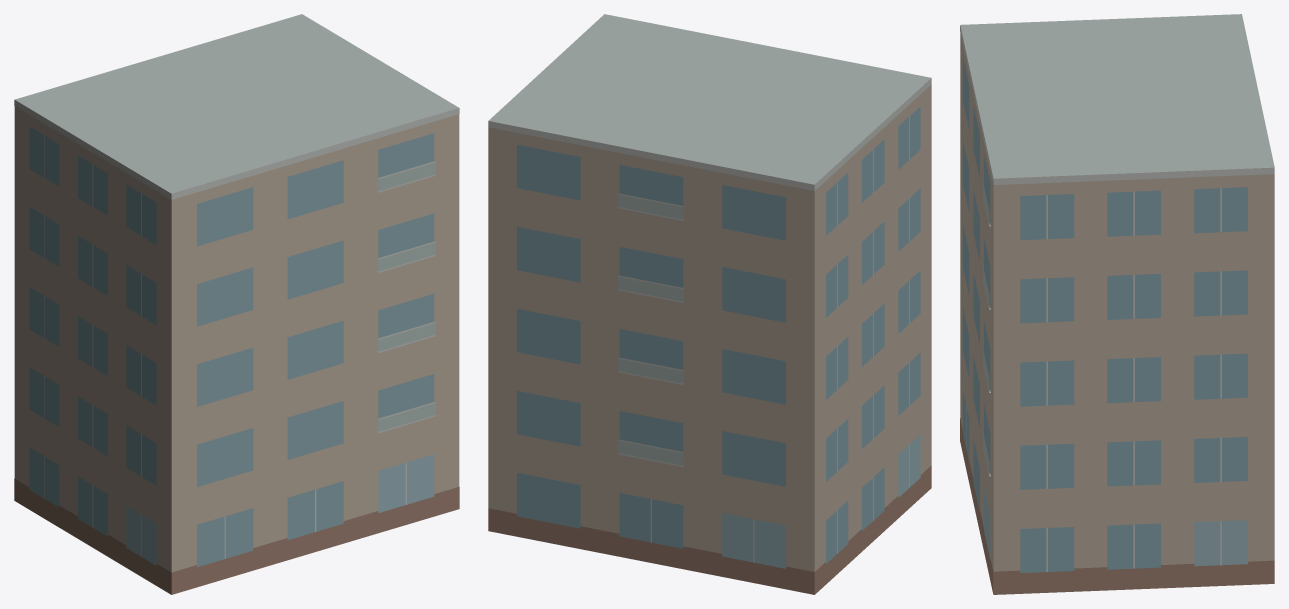
Rendered from survey-upis-32967545.glb.
3 views of the same model, side by side, from view 1: azimuth 30°, elevation 25°; view 2: azimuth 150°, elevation 25°; view 3: azimuth 270°, elevation 25° (orthographic). The views are drawn at different scales.
Visible parts, largest first — view 1: survey-upis-32967545.tmp; view 2: survey-upis-32967545.tmp; view 3: survey-upis-32967545.tmp.
Part boxes in pixels (x1,y1,x2,y2): survey-upis-32967545.tmp: [14, 14, 459, 594]; survey-upis-32967545.tmp: [488, 14, 931, 594]; survey-upis-32967545.tmp: [960, 14, 1274, 594].
Bounding box in the file's own units: 13.4 × 15.78 × 10.82.
